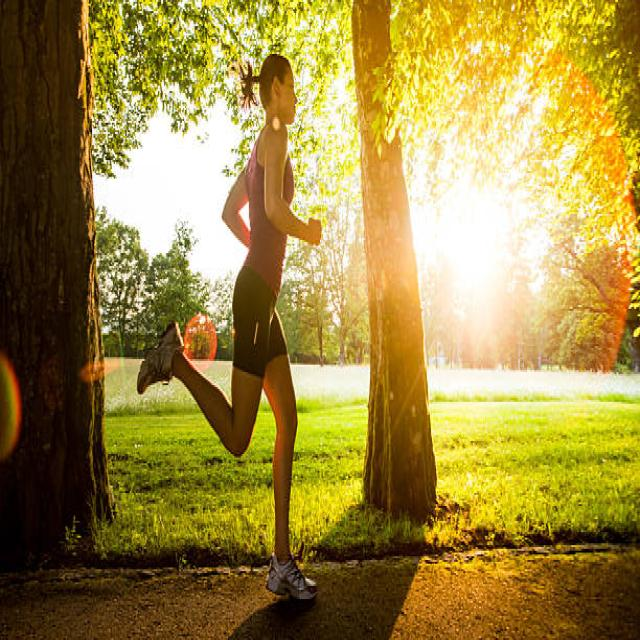Person: (138, 55, 322, 604)
